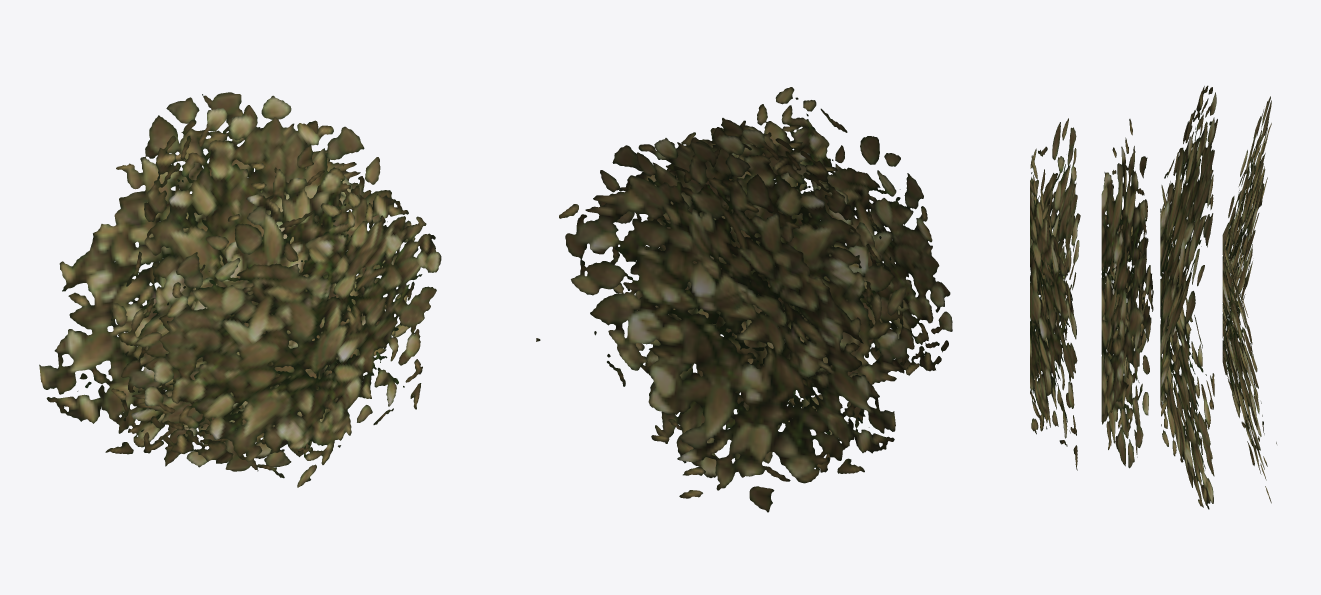
The model's file is bush_med_a.glb.
3 views of the same model, side by side, from view 1: azimuth 30°, elevation 25°; view 2: azimuth 150°, elevation 25°; view 3: azimuth 270°, elevation 25° (orthographic). The views are drawn at different scales.
Visible parts, largest first — view 1: bush_med_a; view 2: bush_med_a; view 3: bush_med_a.
Part boxes in pixels (x1=…): bush_med_a: x1=39, y1=92, x2=441, y2=487; bush_med_a: x1=536, y1=87, x2=952, y2=512; bush_med_a: x1=1030, y1=85, x2=1276, y2=509.
Size of the model in its own units: 6.65 by 6.65 by 3.17.
Materials: 1 (1 with a texture image).
